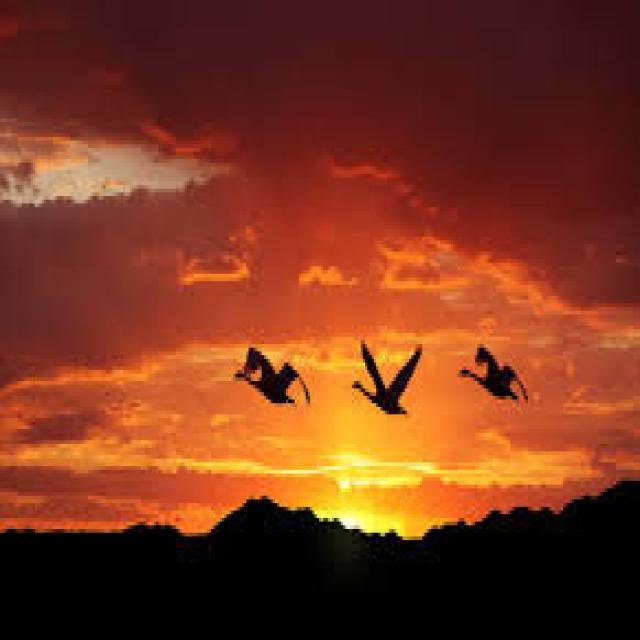bird: (341, 310, 434, 436), (233, 324, 319, 449), (455, 326, 541, 422)
